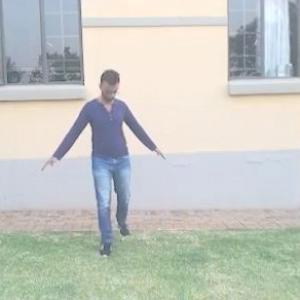land: (46, 53, 184, 259)
